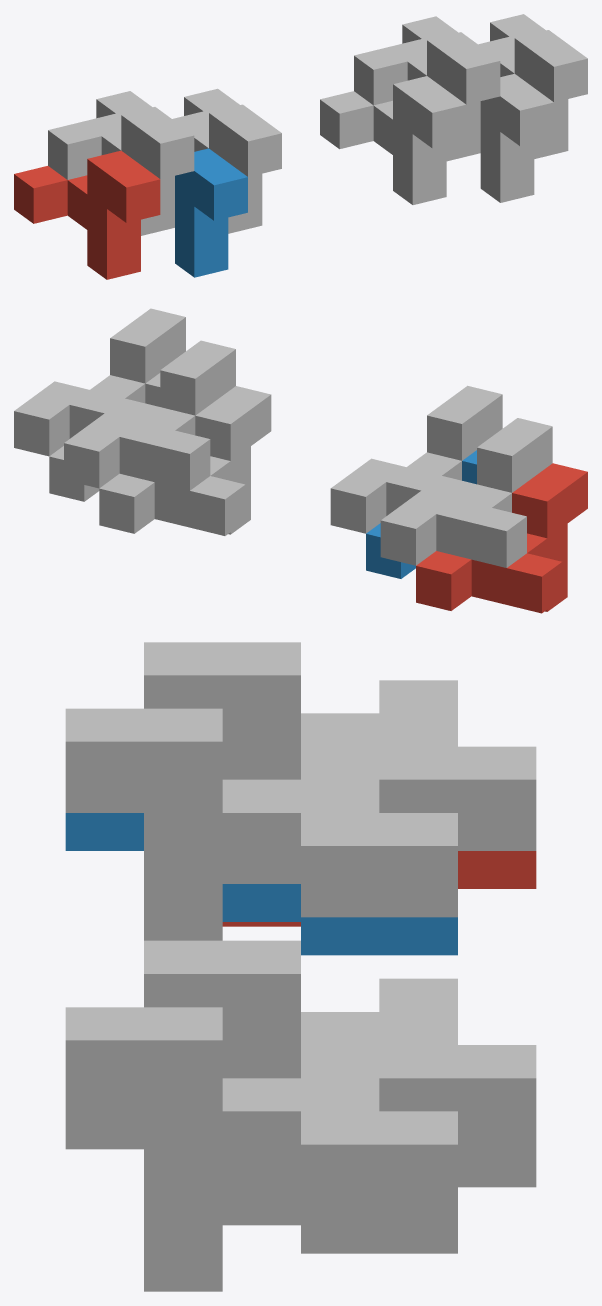
File: tiling.obj
3 renders of one model, top to bottom at view 1: azimuth 30°, elevation 25°; view 2: azimuth 150°, elevation 25°; view 3: azimuth 270°, elevation 25°, orthographic. The views are drawn at different scales.
Parts seen in each view (by area): view 1: copy_1_domain_5, copy_1_domain_1, copy_1_domain_3, copy_1_domain_7, copy_1_domain_6, copy_1_domain_2, copy_1_domain_8, copy_1_domain_4; view 2: copy_1_domain_7, copy_1_domain_3, copy_1_domain_5, copy_1_domain_1, copy_1_domain_4, copy_1_domain_8, copy_1_domain_6, copy_1_domain_2; view 3: copy_1_domain_8, copy_1_domain_4, copy_1_domain_7, copy_1_domain_3, copy_1_domain_6, copy_1_domain_2, copy_1_domain_5, copy_1_domain_1.
Part boxes in pixels (bbox=[...]): copy_1_domain_5: bbox=[320, 76, 466, 204]; copy_1_domain_1: bbox=[14, 150, 160, 279]; copy_1_domain_3: bbox=[48, 91, 194, 235]; copy_1_domain_7: bbox=[354, 16, 500, 161]; copy_1_domain_6: bbox=[480, 73, 553, 202]; copy_1_domain_2: bbox=[175, 148, 247, 277]; copy_1_domain_8: bbox=[478, 14, 587, 158]; copy_1_domain_4: bbox=[172, 88, 281, 233]; copy_1_domain_7: bbox=[64, 340, 235, 490]; copy_1_domain_3: bbox=[380, 418, 552, 567]; copy_1_domain_5: bbox=[99, 386, 271, 535]; copy_1_domain_1: bbox=[416, 463, 587, 613]; copy_1_domain_4: bbox=[330, 385, 502, 533]; copy_1_domain_8: bbox=[14, 308, 185, 456]; copy_1_domain_6: bbox=[49, 373, 160, 501]; copy_1_domain_2: bbox=[366, 450, 476, 578]; copy_1_domain_8: bbox=[65, 1007, 457, 1253]; copy_1_domain_4: bbox=[65, 708, 457, 940]; copy_1_domain_7: bbox=[144, 940, 536, 1149]; copy_1_domain_3: bbox=[144, 642, 536, 850]; copy_1_domain_6: bbox=[65, 1111, 457, 1291]; copy_1_domain_2: bbox=[65, 813, 457, 955]; copy_1_domain_5: bbox=[222, 1149, 536, 1225]; copy_1_domain_1: bbox=[222, 851, 536, 926].
Bounding box in the file's own units: 15 × 4 × 6.
